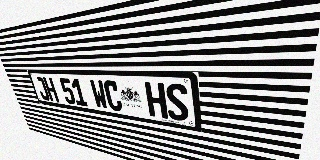1: (69, 78, 88, 107)
5: (59, 78, 77, 105)
C: (102, 80, 123, 112)
H: (144, 82, 168, 119), (43, 77, 59, 102)
J: (34, 77, 50, 101)
S: (164, 83, 189, 122)
W: (89, 79, 109, 110)
